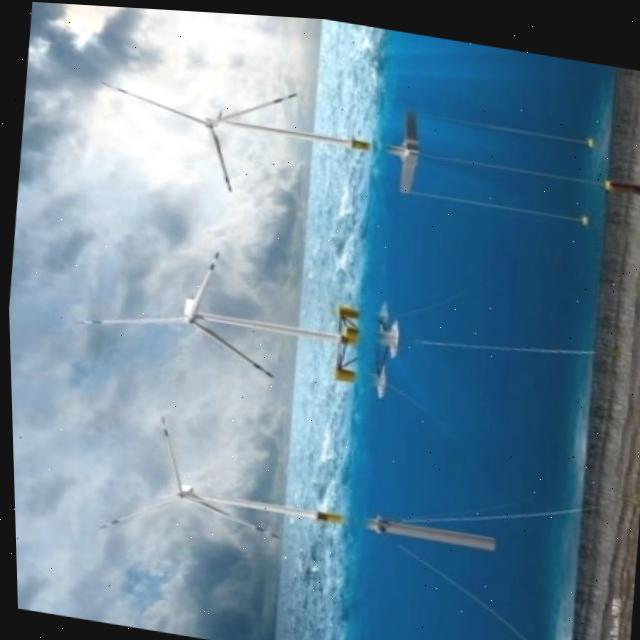solid-blade: (95, 493, 174, 527), (218, 88, 295, 115), (74, 313, 183, 322)
wind-turbine: (75, 248, 344, 374), (96, 413, 341, 535), (101, 81, 371, 187)
